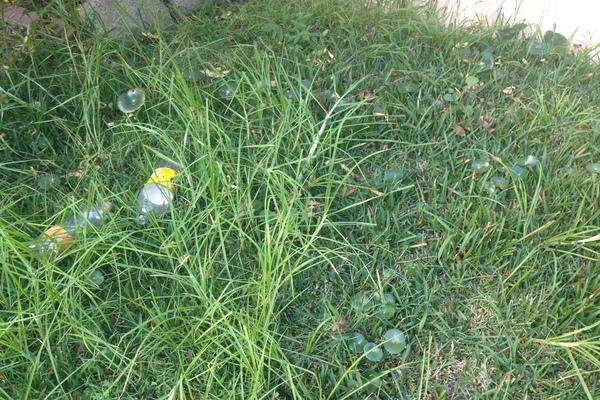Plastic Bottle: (38, 200, 111, 258), (136, 161, 177, 224)
